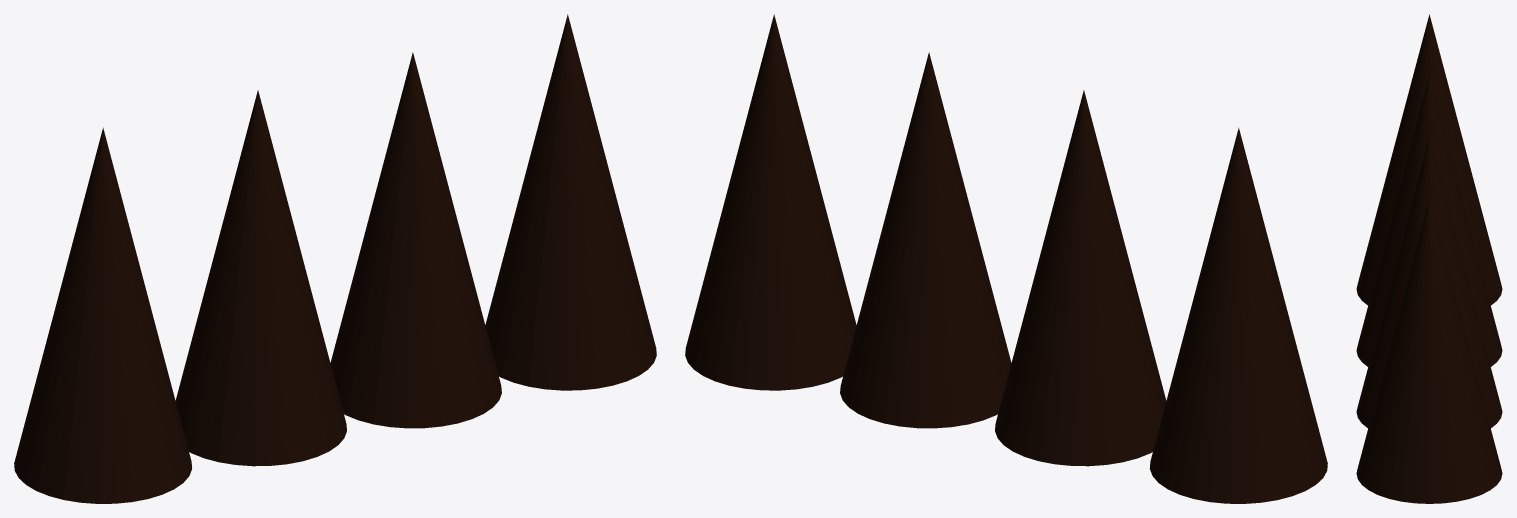
Rendered from Spike_3.fbx.
3 renders of one model, left to right at view 1: azimuth 30°, elevation 25°; view 2: azimuth 150°, elevation 25°; view 3: azimuth 270°, elevation 25°, orthographic. The views are drawn at different scales.
Visible parts, largest first — view 1: Spike3; view 2: Spike3; view 3: Spike3.
Part boxes in pixels (bbox=[...]): Spike3: bbox=[14, 14, 656, 503]; Spike3: bbox=[685, 14, 1327, 503]; Spike3: bbox=[1356, 14, 1502, 503].
Bounding box in the file's own units: 117 × 61.1 × 29.39.
